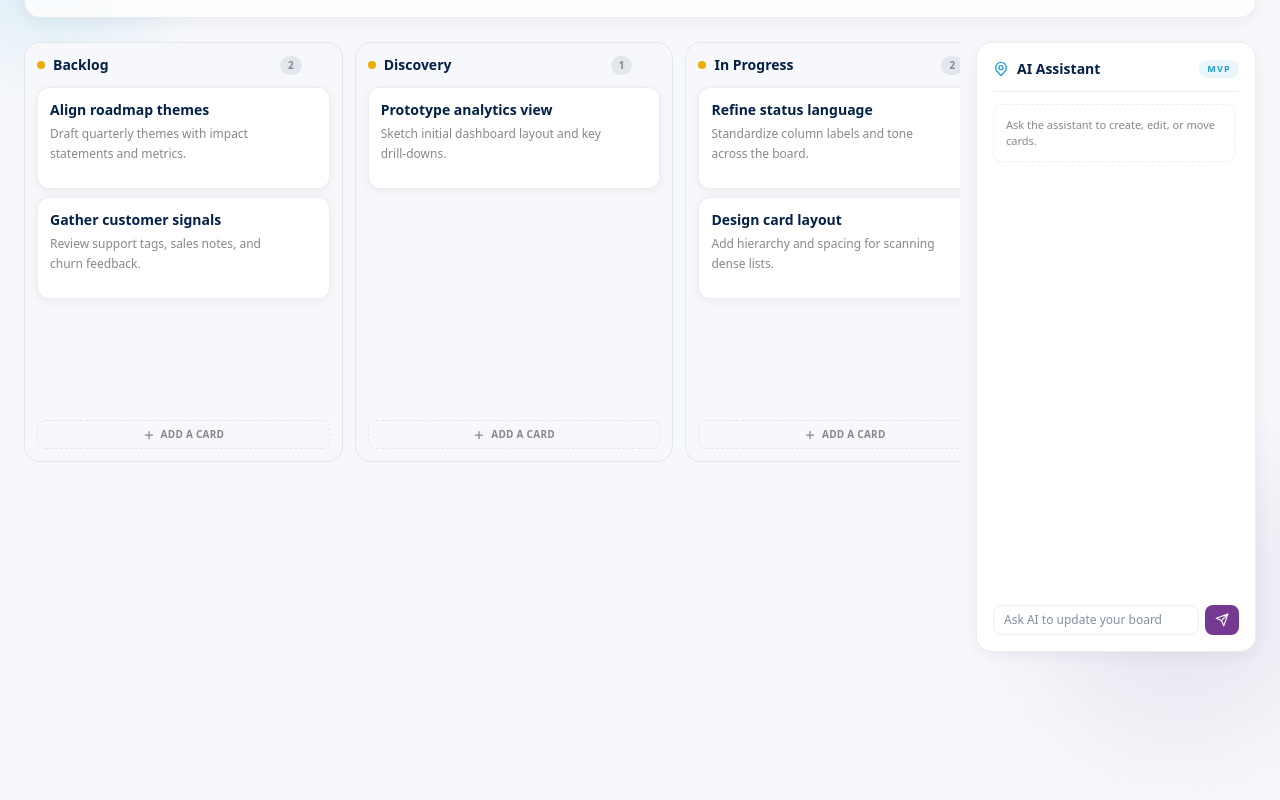
Test case: KanbanBoard › sends a chat message and applies AI board update
The image size is (1280, 800).
(page scrolled)
Expected: the element with test id "column-col-backlog" is shown, left=24, top=42, right=343, bottom=462
In the field named "ai message": (1096, 620) left=993, top=605, right=1199, bottom=635, type "Please update board"
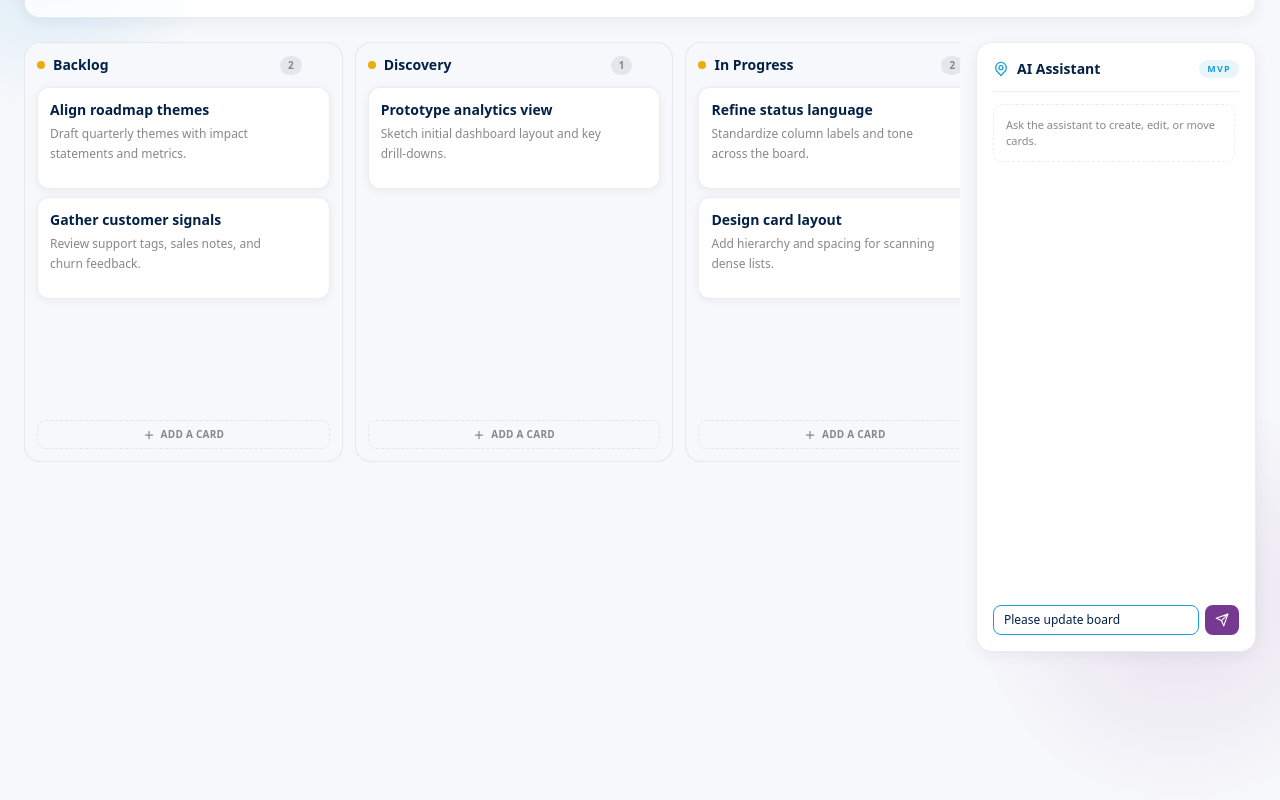
Click the button named "send": (1222, 620) left=1205, top=605, right=1239, bottom=635
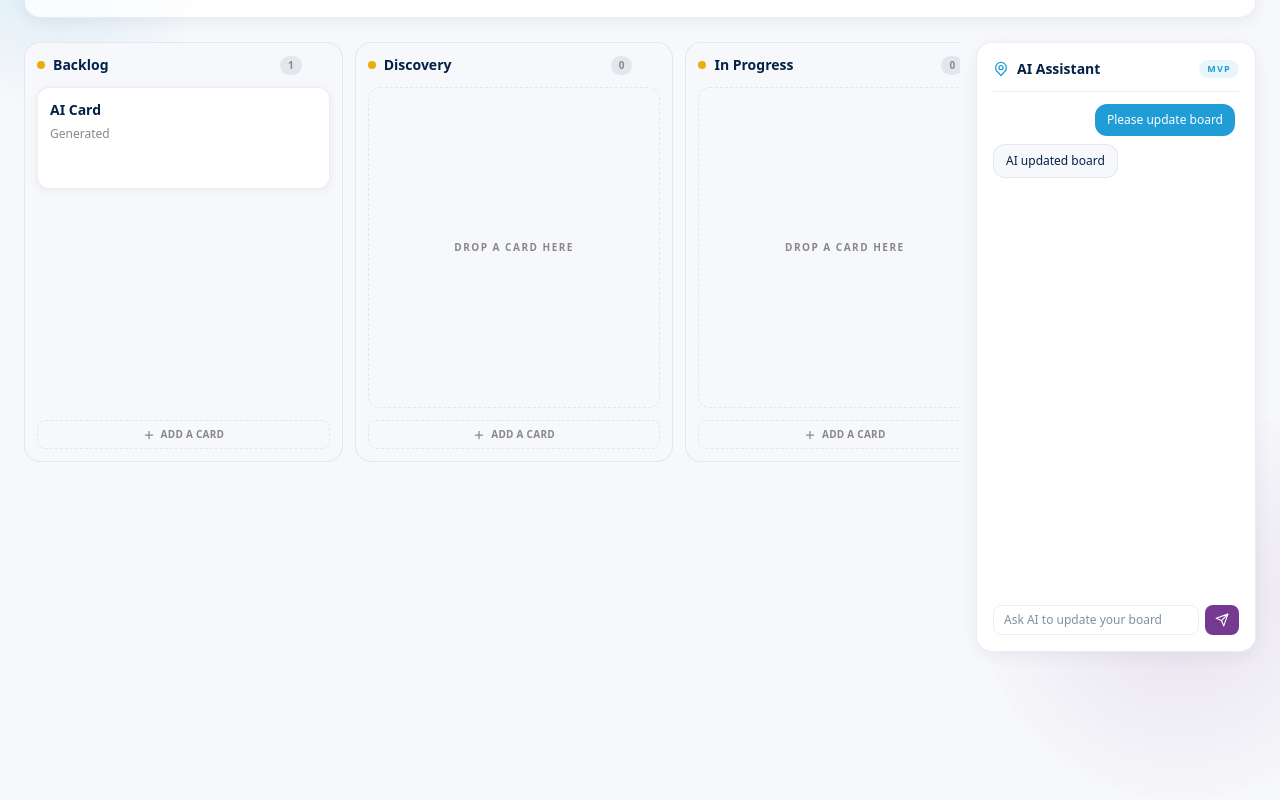
Expected: the text "AI updated board" is shown, left=993, top=144, right=1118, bottom=178
Expected: the heading "AI Card" is shown, left=50, top=100, right=101, bottom=119
